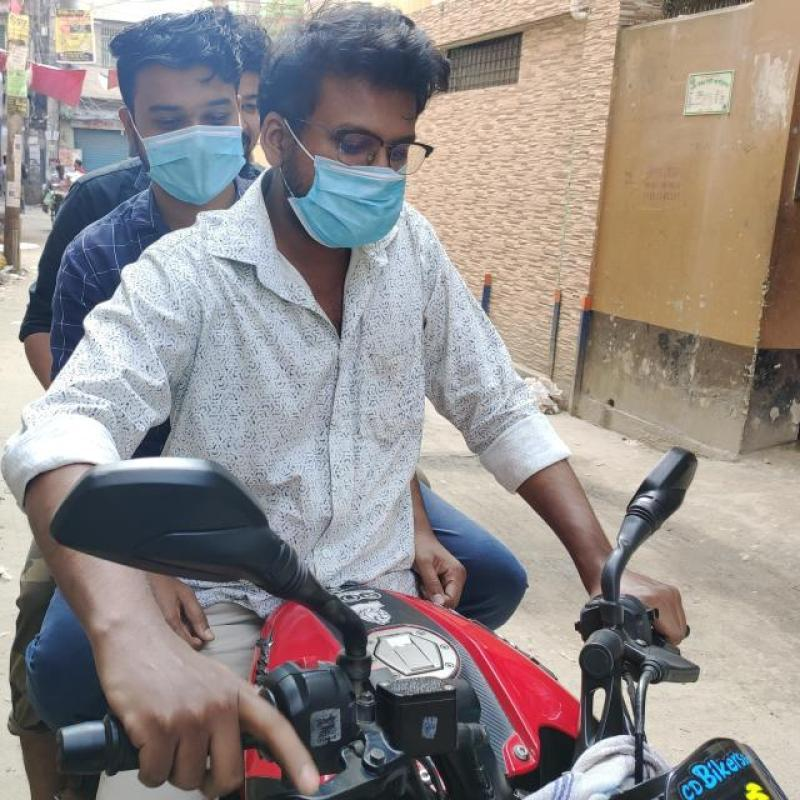nohelmet: (262, 1, 442, 258), (112, 24, 248, 208)
